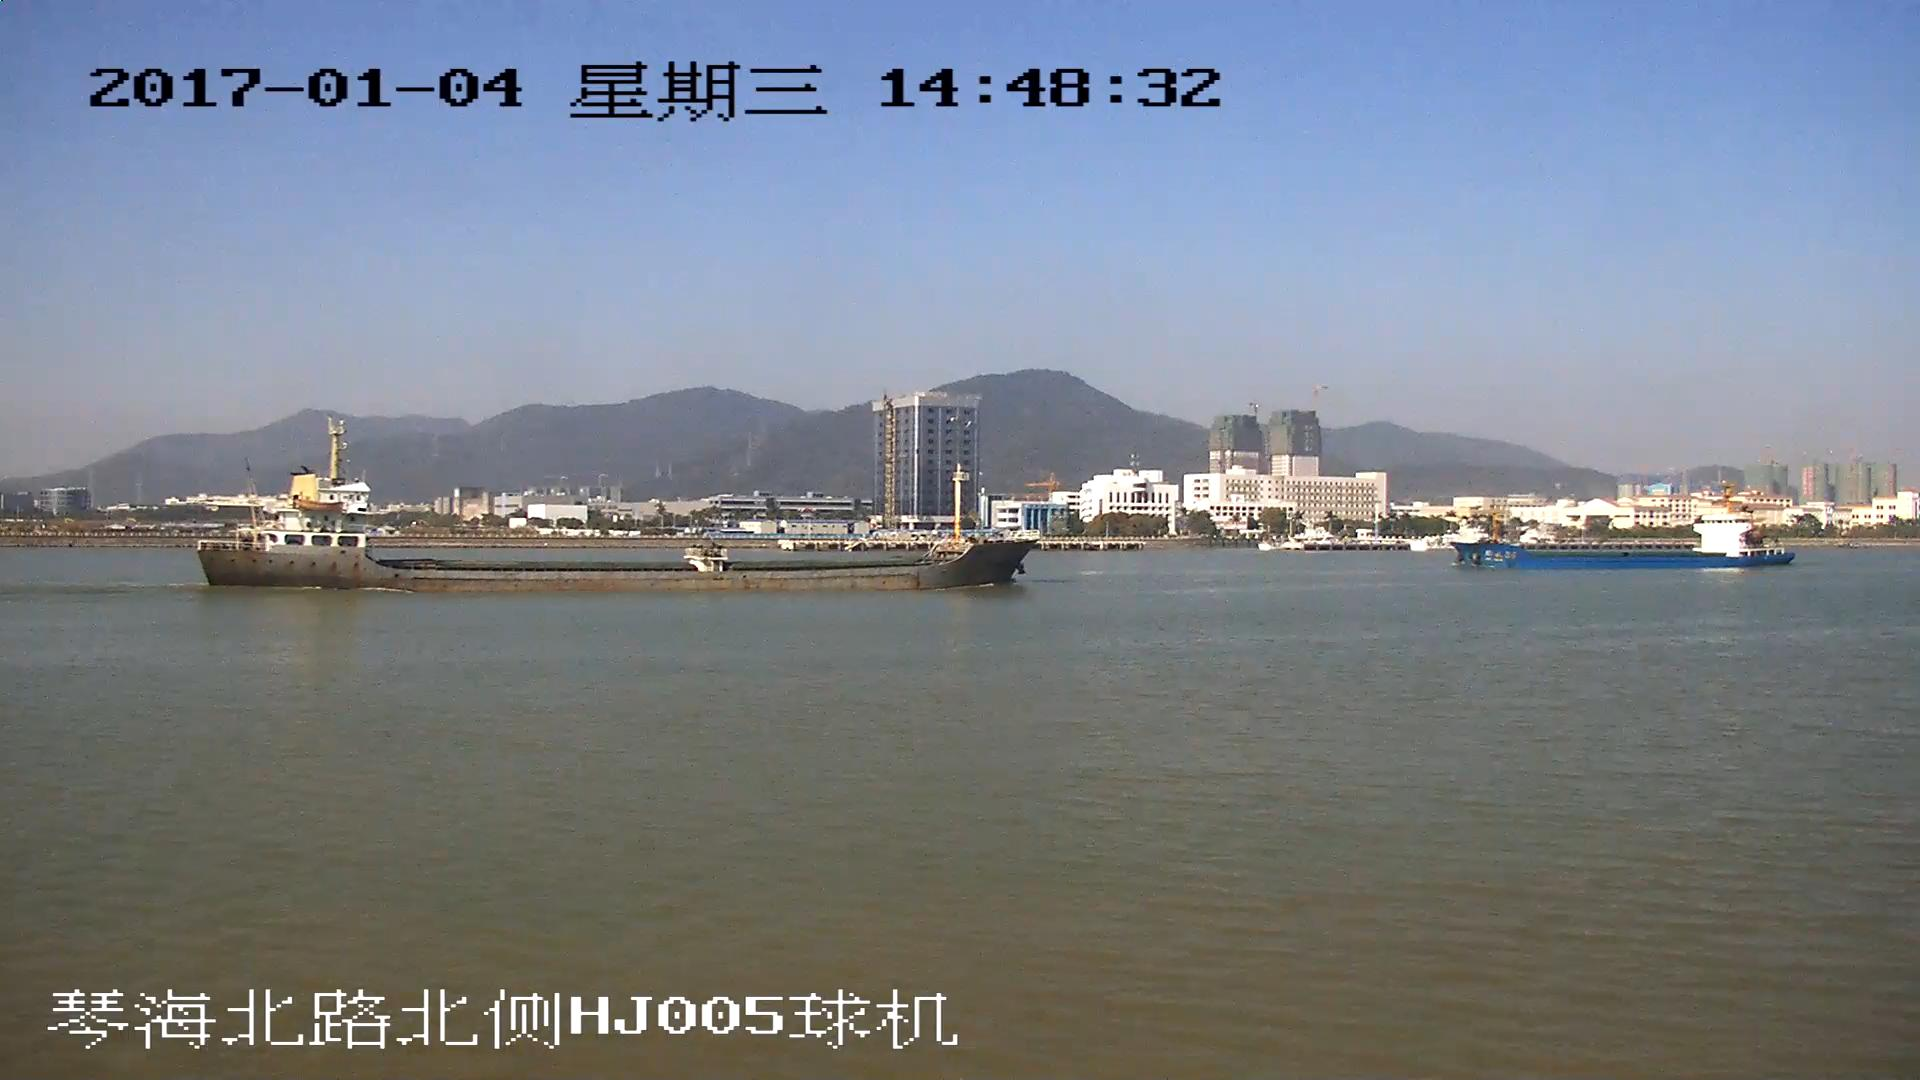general cargo ship: (195, 427, 1024, 593), (1460, 510, 1794, 570)
